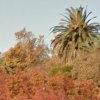Palm tree: (49, 5, 100, 88)
